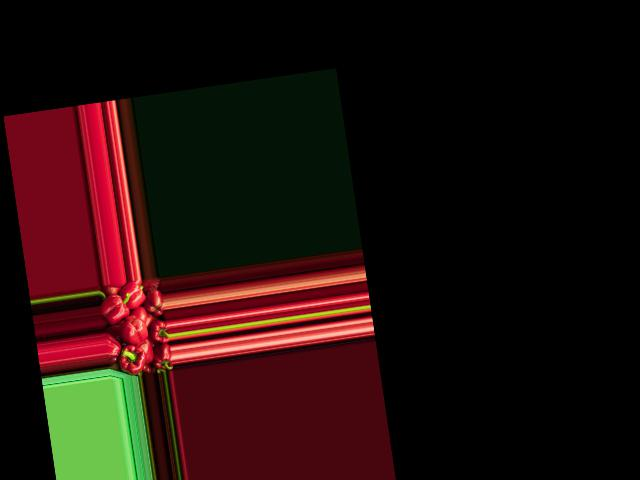bell_pepper: (151, 344, 173, 372)
